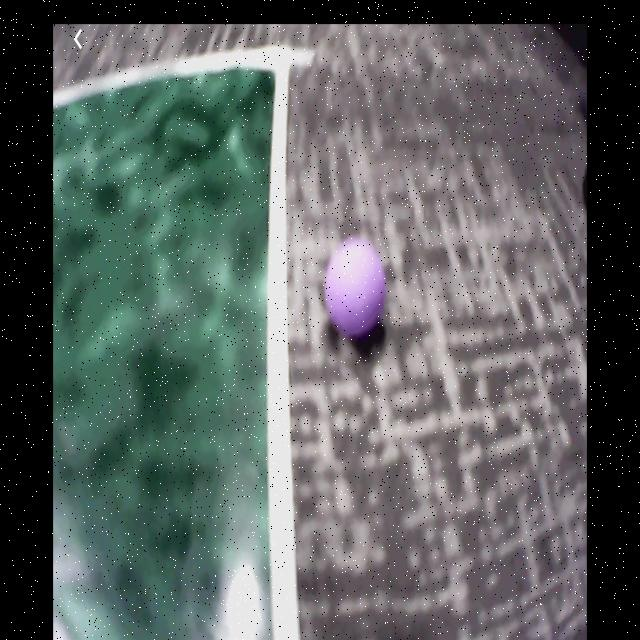ball: (324, 236, 387, 340)
